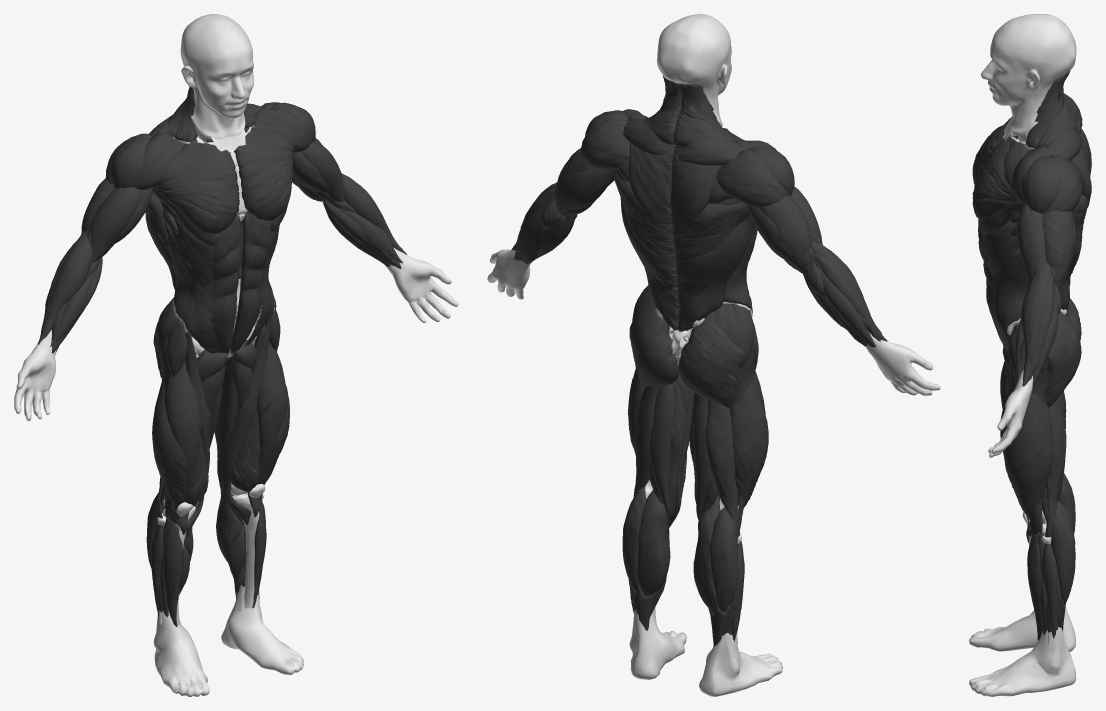
File: corpo-7.glb
3 views of the same model, side by side, from view 1: azimuth 30°, elevation 25°; view 2: azimuth 150°, elevation 25°; view 3: azimuth 270°, elevation 25° (orthographic).
Visible parts, largest first — view 1: pele, peito_medial, deco, cabeca, quad_reto_femoral, obliquos, adutores, antebraco_flexores, abdomen_supra, biceps_longa, antebraco_braquiorradial, ombro_frontal (+14 smaller); view 2: pele, panturrilha_gastro, gluteo_maximo, dorsal_inferior, isquio_semitendineo, dorsal_superior, trapezio_inferior, cabeca, antebraco_extensores, ombro_posterior, isquio_biceps_femoral, quad_vasto_lateral (+12 smaller); view 3: pele, cabeca, quad_vasto_lateral, obliquos, deco, peito_medial, gluteo_maximo, panturrilha_gastro, trapezio_superior, isquio_biceps_femoral, triceps_lateral, antebraco_braquiorradial (+20 smaller).
Part boxes in pixels (<box>): pele: <box>14,247,458,696</box>; peito_medial: <box>152,139,294,233</box>; deco: <box>151,132,273,626</box>; cabeca: <box>180,14,253,142</box>; quad_reto_femoral: <box>164,324,286,534</box>; obliquos: <box>167,218,279,353</box>; adutores: <box>187,340,257,539</box>; antebraco_flexores: <box>50,200,402,353</box>; abdomen_supra: <box>213,211,271,295</box>; biceps_longa: <box>90,140,344,262</box>; antebraco_braquiorradial: <box>38,173,406,344</box>; ombro_frontal: <box>133,107,310,190</box>; pele: <box>487,249,940,696</box>; panturrilha_gastro: <box>622,485,738,612</box>; gluteo_maximo: <box>629,304,743,408</box>; dorsal_inferior: <box>625,227,746,331</box>; isquio_semitendineo: <box>649,381,718,523</box>; dorsal_superior: <box>613,169,754,258</box>; trapezio_inferior: <box>628,143,722,231</box>; cabeca: <box>657,14,731,126</box>; antebraco_extensores: <box>514,189,881,347</box>; ombro_posterior: <box>580,118,788,208</box>; isquio_biceps_femoral: <box>633,386,739,537</box>; quad_vasto_lateral: <box>628,368,768,507</box>; pele: <box>969,370,1076,696</box>; cabeca: <box>981,14,1076,141</box>; quad_vasto_lateral: <box>1004,394,1053,535</box>; obliquos: <box>982,221,1029,348</box>; deco: <box>1007,134,1065,640</box>; peito_medial: <box>972,122,1019,221</box>; gluteo_maximo: <box>1044,298,1081,408</box>; panturrilha_gastro: <box>1051,473,1075,604</box>; trapezio_superior: <box>1025,70,1077,148</box>; isquio_biceps_femoral: <box>1042,391,1066,537</box>; triceps_lateral: <box>1042,210,1074,284</box>; antebraco_braquiorradial: <box>1021,262,1052,386</box>.
Size of the model in its own units: 1.19 by 1.65 by 0.2829.
Materials: 1 (1 with a texture image).
